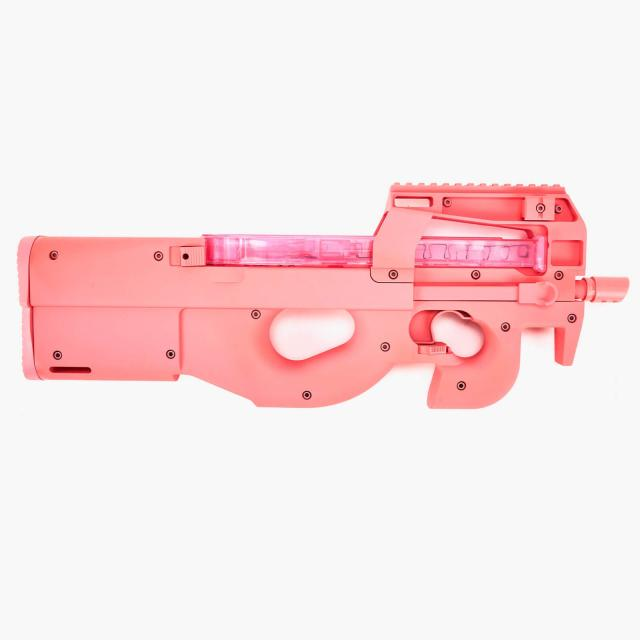Gun: (3, 172, 630, 438)
